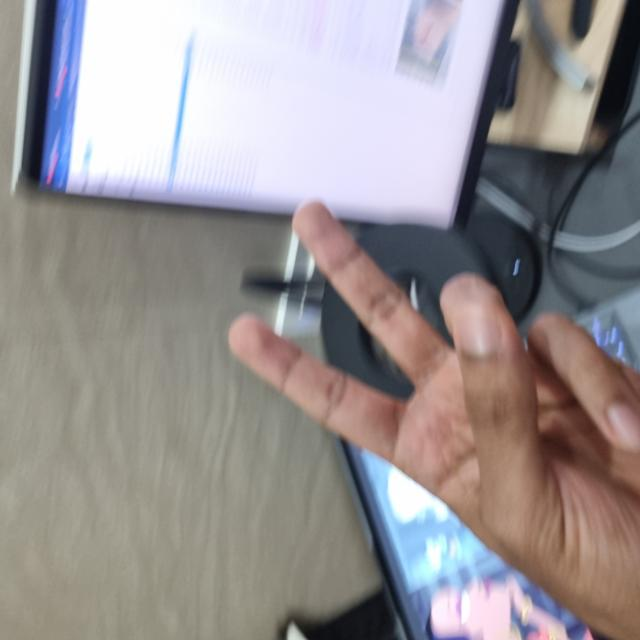Scissors: (0, 231, 433, 639)
